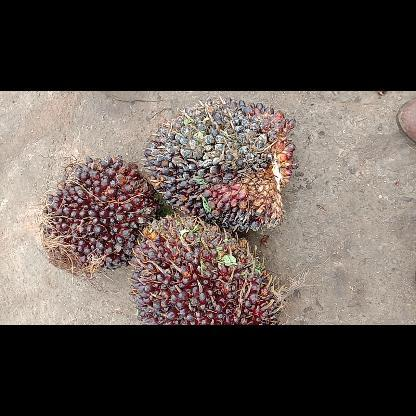Kurang masak: (128, 214, 280, 324), (42, 157, 158, 274)
TBS mentah: (141, 97, 299, 232)
